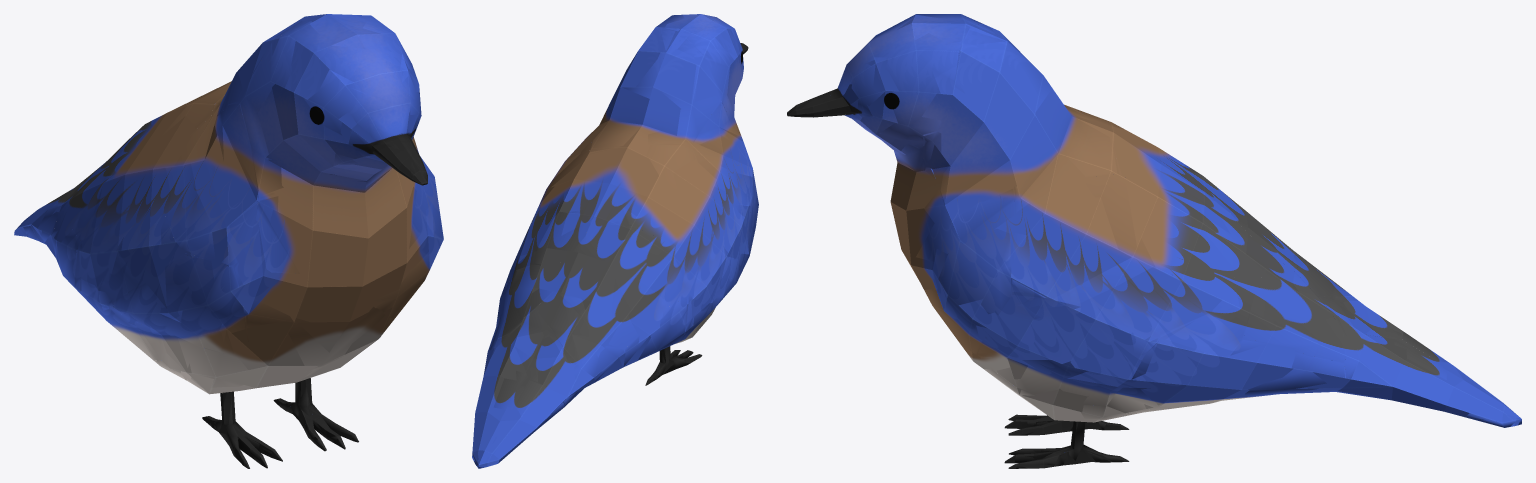
Rendered from Western bluebird.glb.
The picture shows the model from 3 angles, left to right: view 1: azimuth 30°, elevation 25°; view 2: azimuth 150°, elevation 25°; view 3: azimuth 270°, elevation 25°; orthographic projection. The views are drawn at different scales.
Parts seen in each view (by area): view 1: origin, WesternBluebird_Mesh_cell.032, WesternBluebird_Mesh_cell.064, WesternBluebird_Mesh_cell.018, WesternBluebird_Mesh_cell.040, WesternBluebird_Mesh_cell.057, WesternBluebird_Mesh_cell.036, WesternBluebird_Mesh_cell.007, WesternBluebird_Mesh_cell.061, WesternBluebird_Mesh_cell.010, WesternBluebird_Mesh_cell.029, WesternBluebird_Mesh_cell.021 (+6 smaller); view 2: origin, WesternBluebird_Mesh_cell.051, WesternBluebird_Mesh_cell.048, WesternBluebird_Mesh_cell.071, WesternBluebird_Mesh_cell.032, WesternBluebird_Mesh_cell.018, WesternBluebird_Mesh_cell.029, WesternBluebird_Mesh_cell.063, WesternBluebird_Mesh_cell.059, WesternBluebird_Mesh_cell.021, WesternBluebird_Mesh_cell.067, WesternBluebird_Mesh_cell.056 (+9 smaller); view 3: origin, WesternBluebird_Mesh_cell.057, WesternBluebird_Mesh_cell.032, WesternBluebird_Mesh_cell.048, WesternBluebird_Mesh_cell.026, WesternBluebird_Mesh_cell.051, WesternBluebird_Mesh_cell.049, WesternBluebird_Mesh_cell.037, WesternBluebird_Mesh_cell.072, WesternBluebird_Mesh_cell.067, WesternBluebird_Mesh_cell.027, WesternBluebird_Mesh_cell.023 (+3 smaller).
Part boxes in pixels (<box>): origin: <box>14,14,433,468</box>; WesternBluebird_Mesh_cell.032: <box>240,14,419,195</box>; WesternBluebird_Mesh_cell.064: <box>112,254,245,353</box>; WesternBluebird_Mesh_cell.018: <box>165,101,258,265</box>; WesternBluebird_Mesh_cell.040: <box>234,263,393,368</box>; WesternBluebird_Mesh_cell.057: <box>373,156,443,318</box>; WesternBluebird_Mesh_cell.036: <box>126,317,247,387</box>; WesternBluebird_Mesh_cell.007: <box>255,165,392,273</box>; WesternBluebird_Mesh_cell.061: <box>81,279,158,360</box>; WesternBluebird_Mesh_cell.010: <box>100,217,175,301</box>; WesternBluebird_Mesh_cell.029: <box>112,87,228,175</box>; WesternBluebird_Mesh_cell.021: <box>51,229,96,310</box>; origin: <box>472,14,756,467</box>; WesternBluebird_Mesh_cell.051: <box>589,27,719,151</box>; WesternBluebird_Mesh_cell.048: <box>495,264,559,340</box>; WesternBluebird_Mesh_cell.071: <box>555,236,661,348</box>; WesternBluebird_Mesh_cell.032: <box>656,14,743,135</box>; WesternBluebird_Mesh_cell.018: <box>691,101,756,205</box>; WesternBluebird_Mesh_cell.029: <box>587,145,698,246</box>; WesternBluebird_Mesh_cell.063: <box>586,225,688,309</box>; WesternBluebird_Mesh_cell.059: <box>536,290,589,362</box>; WesternBluebird_Mesh_cell.021: <box>623,297,687,366</box>; WesternBluebird_Mesh_cell.067: <box>534,209,589,264</box>; WesternBluebird_Mesh_cell.056: <box>563,345,624,405</box>; origin: <box>787,14,1521,468</box>; WesternBluebird_Mesh_cell.057: <box>916,167,1014,353</box>; WesternBluebird_Mesh_cell.032: <box>831,14,982,148</box>; WesternBluebird_Mesh_cell.048: <box>1243,253,1344,362</box>; WesternBluebird_Mesh_cell.026: <box>1012,174,1155,304</box>; WesternBluebird_Mesh_cell.051: <box>955,24,1117,177</box>; WesternBluebird_Mesh_cell.049: <box>1160,243,1265,356</box>; WesternBluebird_Mesh_cell.037: <box>978,304,1119,405</box>; WesternBluebird_Mesh_cell.072: <box>1230,340,1344,396</box>; WesternBluebird_Mesh_cell.067: <box>1198,199,1265,277</box>; WesternBluebird_Mesh_cell.027: <box>1327,336,1515,427</box>; WesternBluebird_Mesh_cell.023: <box>1107,338,1215,413</box>.
Size of the model in its own units: 0.6694 by 1.06 by 1.67.
1 material, 1 textured.
